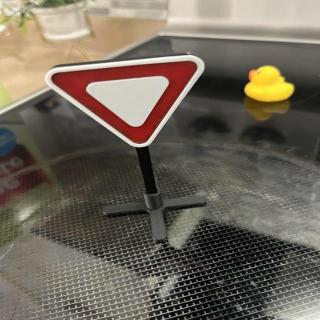duck_regular: (243, 65, 297, 105)
sign_yield: (46, 54, 207, 149)
